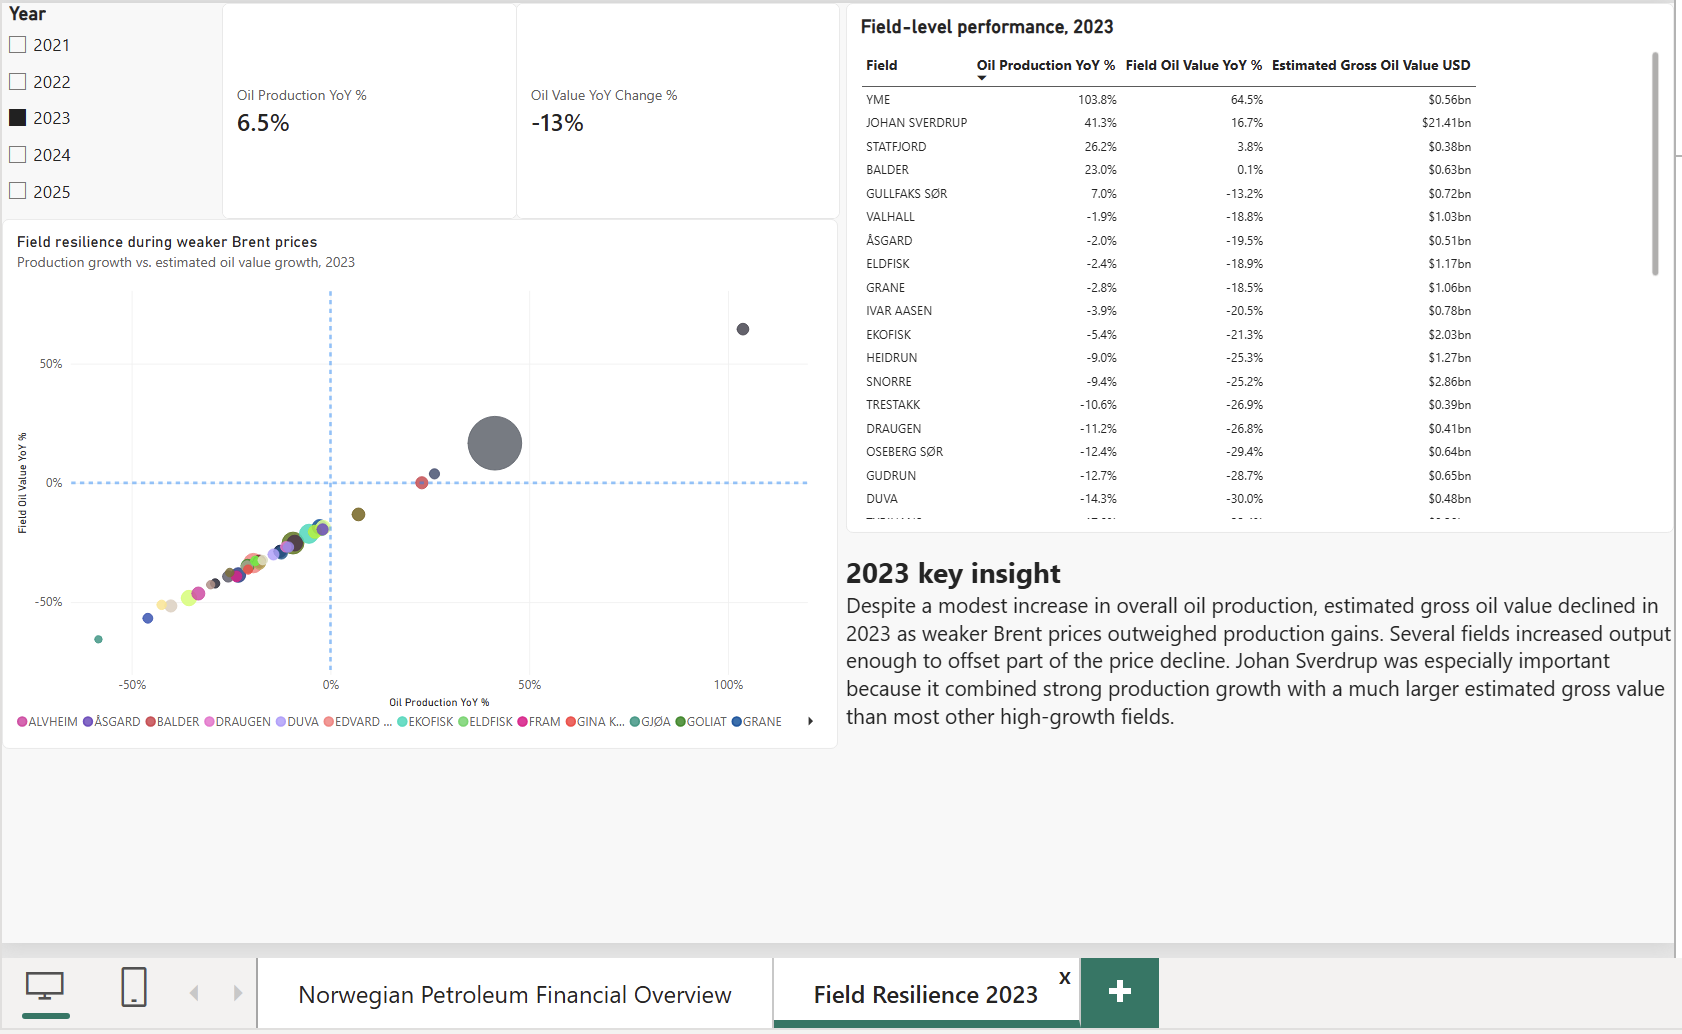

The page's visual inventory and layout, read from the dashboard file:
{"tool":"powerbi","page":{"name":"Field Resilience 2023","canvas":[1920,1080],"ordinal":1},"visuals":[{"type":"scatterChart","title":"Field resilience during weaker Brent prices","fields":{"Series":["Field_Lookup.Field"],"Size":["Brent_price.Estimated Gross Oil Value USD"],"X":["Brent_price.Oil Production YoY %"],"Y":["Brent_price.Field Oil Value YoY %"]},"box":[0,248,960,608.6],"z":0},{"type":"slicer","fields":{"Values":["Date_Table.Year"]},"box":[0,0,252.6,248],"z":1000},{"type":"tableEx","title":"Field-level performance, 2023","fields":{"Values":["Field_Lookup.Field","Brent_price.Oil Production YoY %","Brent_price.Field Oil Value YoY %","Brent_price.Estimated Gross Oil Value USD"]},"box":[969.2,0,950.8,608.6],"z":2000},{"type":"cardVisual","fields":{"Data":["Brent_price.Oil Production YoY %"]},"box":[252.6,0,339.9,248],"z":3000},{"type":"cardVisual","fields":{"Data":["Brent_price.Oil Value YoY Change %"]},"box":[590.2,0,372.1,248],"z":4000},{"type":"textbox","box":[969,0,951,170],"z":5000},{"type":"textbox","box":[969.2,631.6,953.1,225.1],"z":6000}]}

Visuals, with their boxes on the page's 1920x1080 design canvas (x1, y1, x2, y2). These are canvas units, not pixel positions in the 1682x1034 screenshot, which may show the page scaled, cropped or inside an application window:
"Field resilience during weaker Brent prices" scatterChart: [0, 248, 960, 857]
slicer - Date_Table.Year: [0, 0, 253, 248]
"Field-level performance, 2023" tableEx: [969, 0, 1920, 609]
cardVisual - Brent_price.Oil Production YoY %: [253, 0, 592, 248]
cardVisual - Brent_price.Oil Value YoY Change %: [590, 0, 962, 248]
textbox: [969, 0, 1920, 170]
textbox: [969, 632, 1922, 857]
